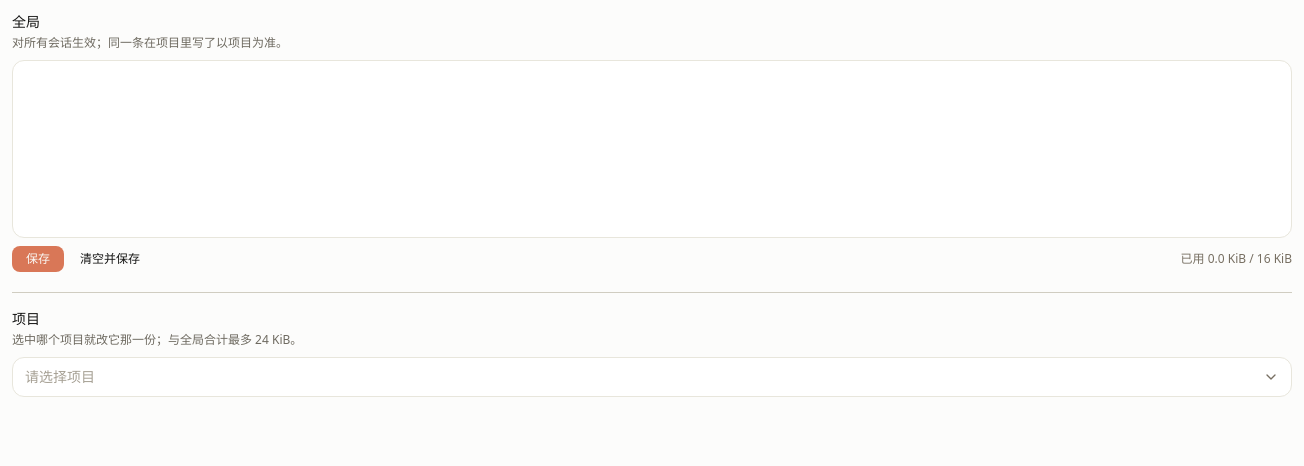
Test: 记忆指令（「记忆」栏里的第三块） › 012：保存成功后「已保存」在输入又改动时立刻消失（不显示假成功）
This screenshot has width=1304, height=466.
Step 1. Type "第一版" into the text box named "全局记忆指令" → (652, 149), box [12, 60, 1292, 238]
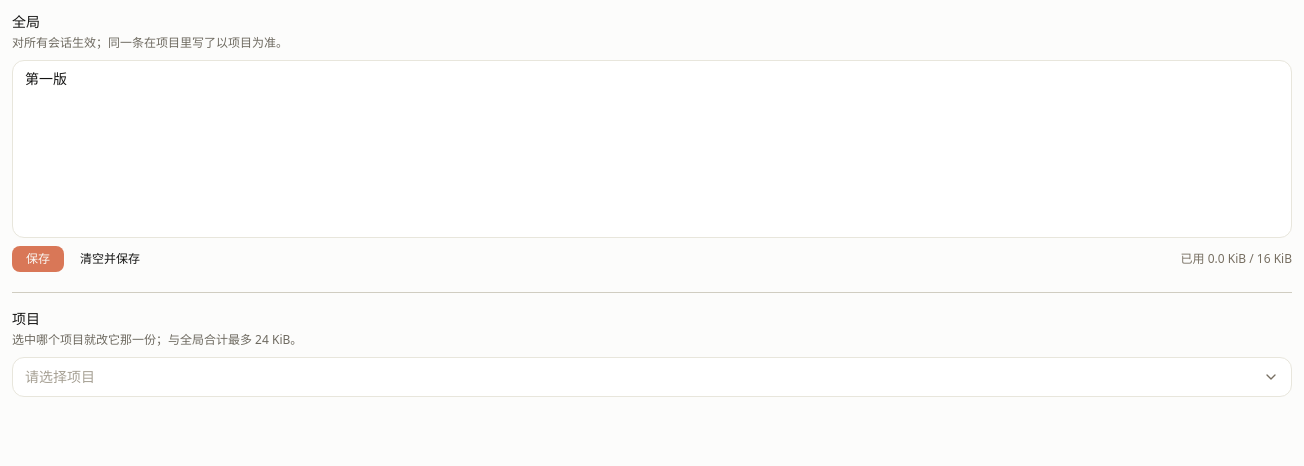
Step 2. Click the button "保存" → (38, 259), box [12, 246, 64, 272]
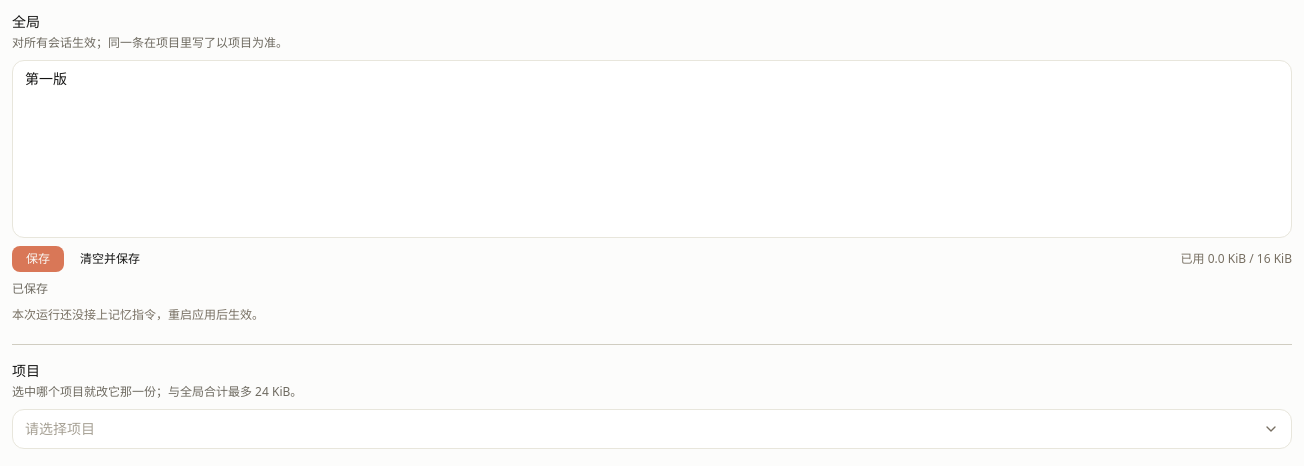
Check: the message with test id "rules-notice" reads "已保存", box [12, 280, 48, 297]
// 又改了一个字：这份新内容还没落盘，「已保存」不该还挂着
Step 3. Replace the text in the text box named "全局记忆指令" with "第一版改了" → (652, 149), box [12, 60, 1292, 238]
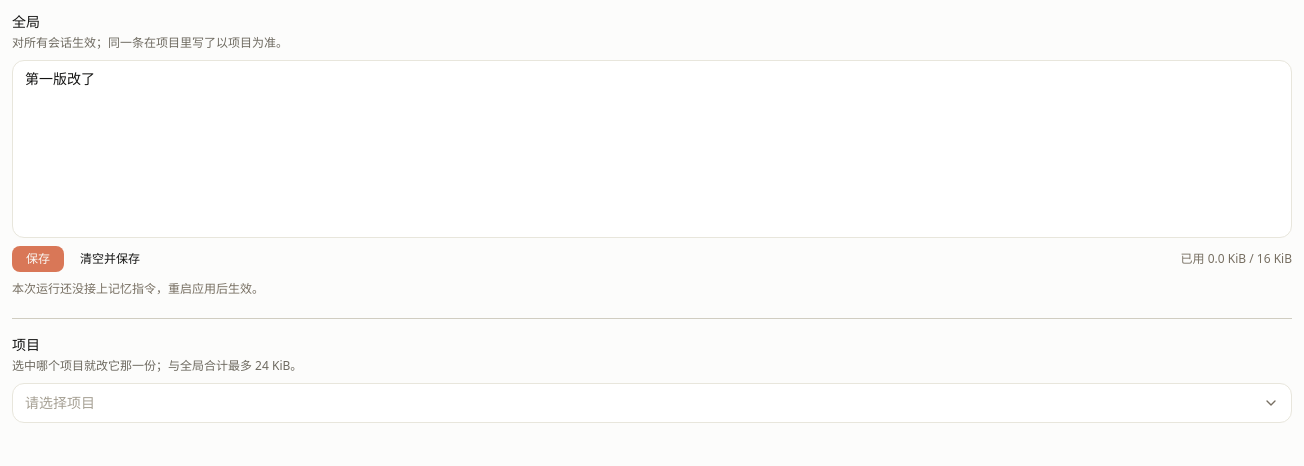
Check: the message with test id "rules-notice" is gone
